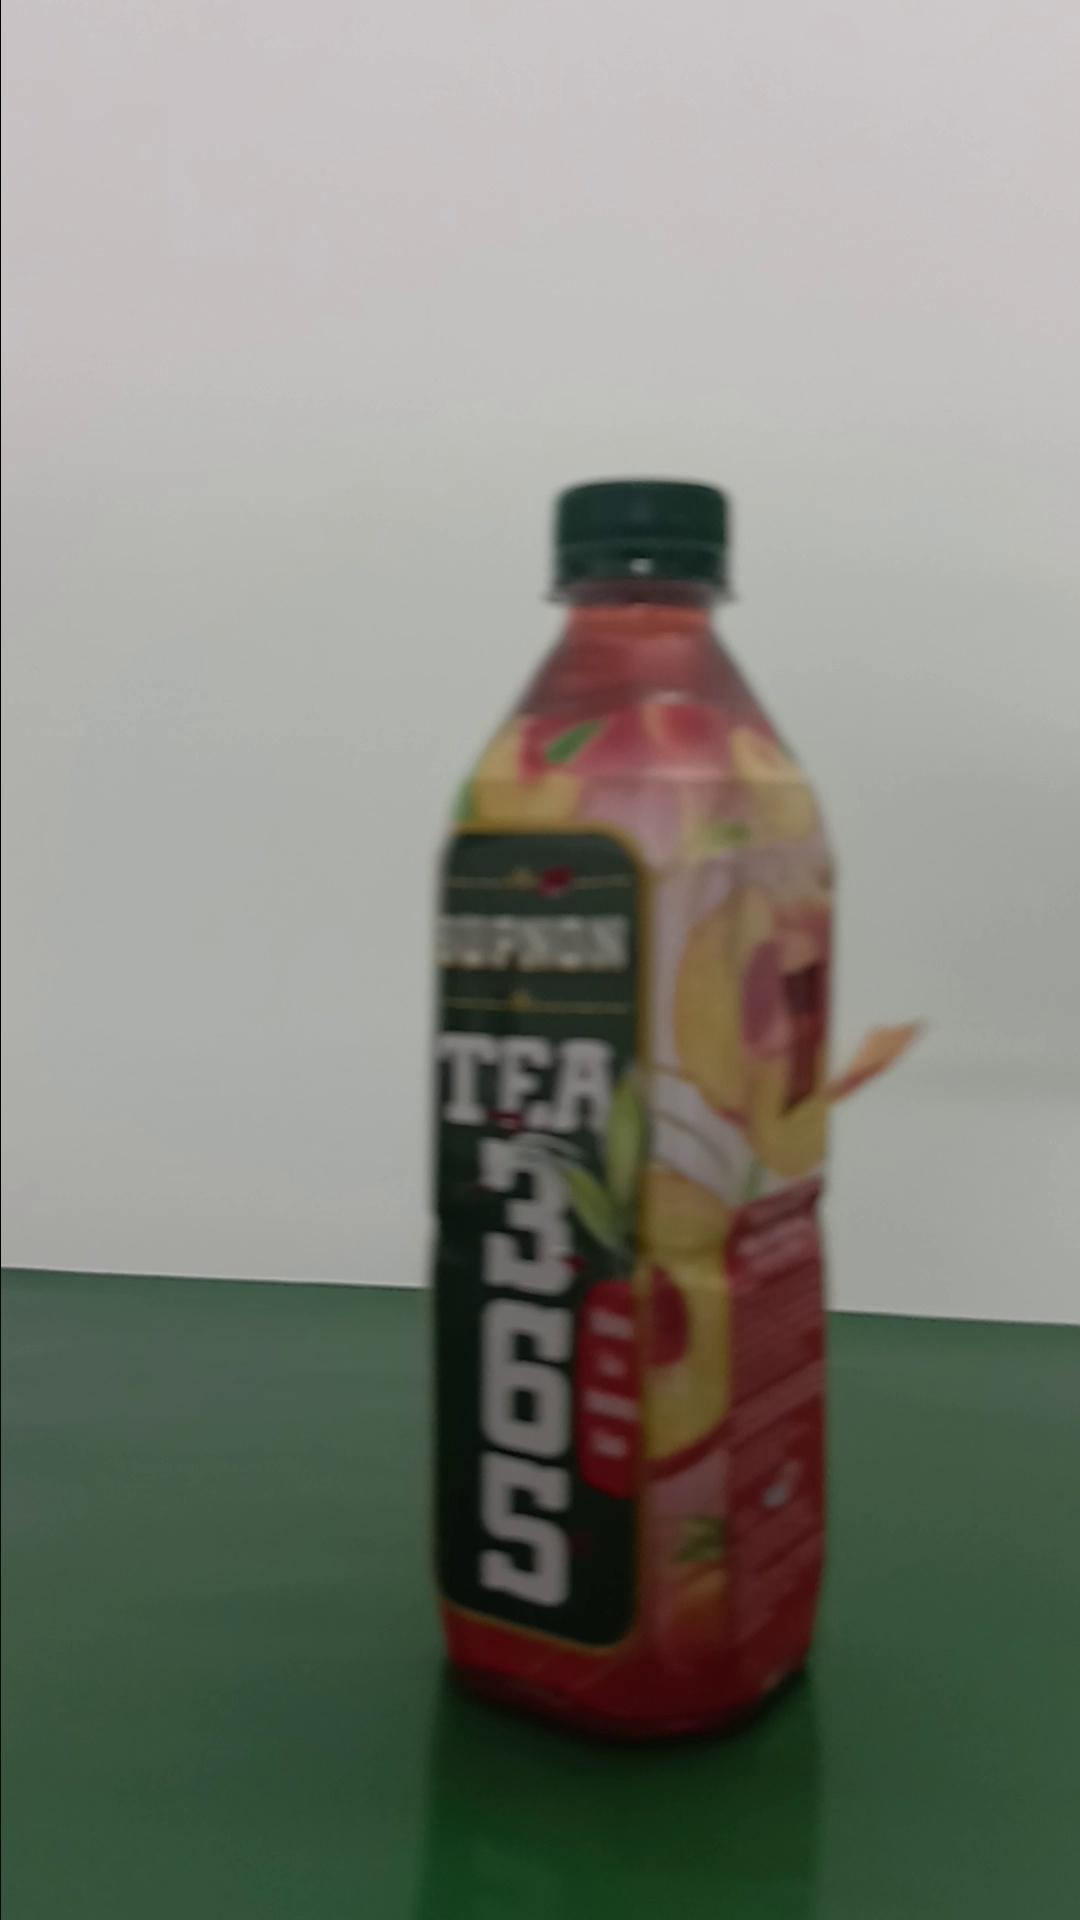loi rach va lap chai: (429, 467, 848, 1754)
